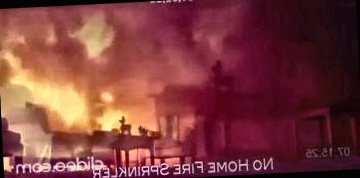fire: (0, 0, 228, 162)
